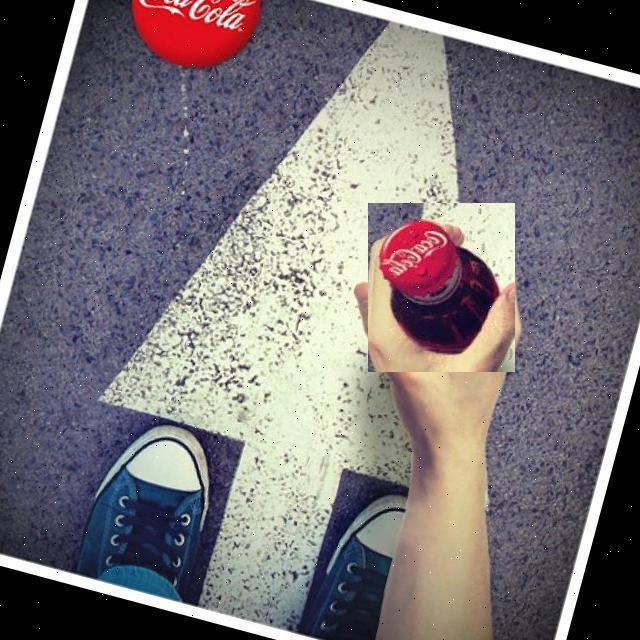coca-cola: (368, 203, 515, 372)
